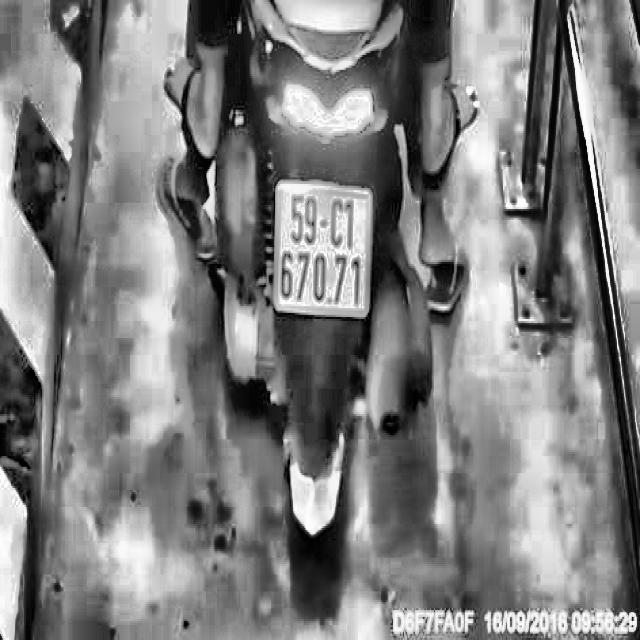plate: (270, 169, 374, 321)
